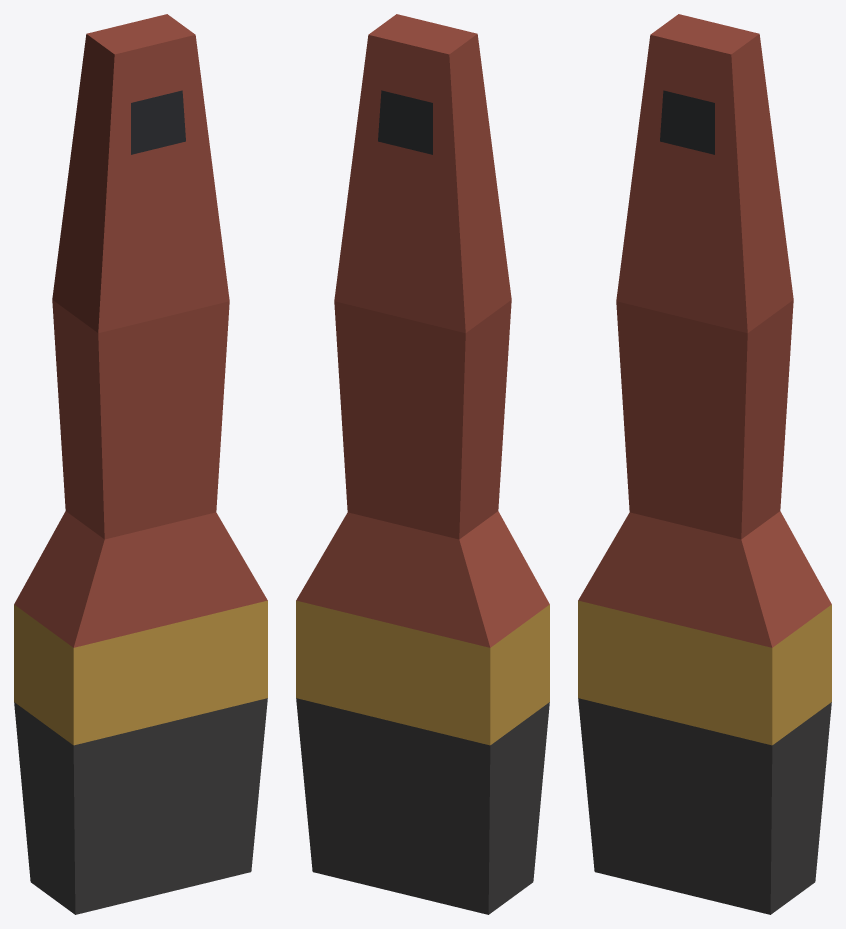
Rendered from SM_Item_Brush_02.fbx.
3 renders of one model, left to right at view 1: azimuth 30°, elevation 25°; view 2: azimuth 150°, elevation 25°; view 3: azimuth 330°, elevation 25°, orthographic.
Visible parts, largest first — view 1: SM_Item_Brush_02; view 2: SM_Item_Brush_02; view 3: SM_Item_Brush_02.
Boxes of the visible parts, x1,y1,x2,y2 form: SM_Item_Brush_02: (14,14,267,914); SM_Item_Brush_02: (296,14,549,914); SM_Item_Brush_02: (578,14,831,914).
Bounding box in the file's own units: 7.67 × 31.79 × 4.07.
